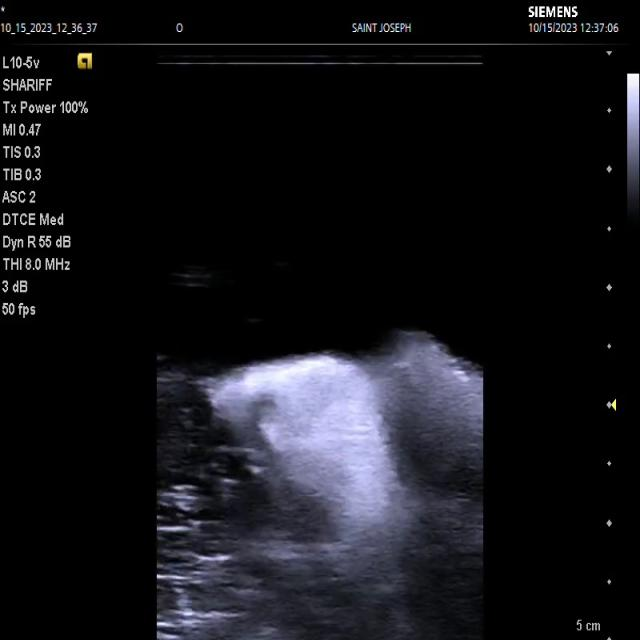tissue: (210, 335, 482, 640)
